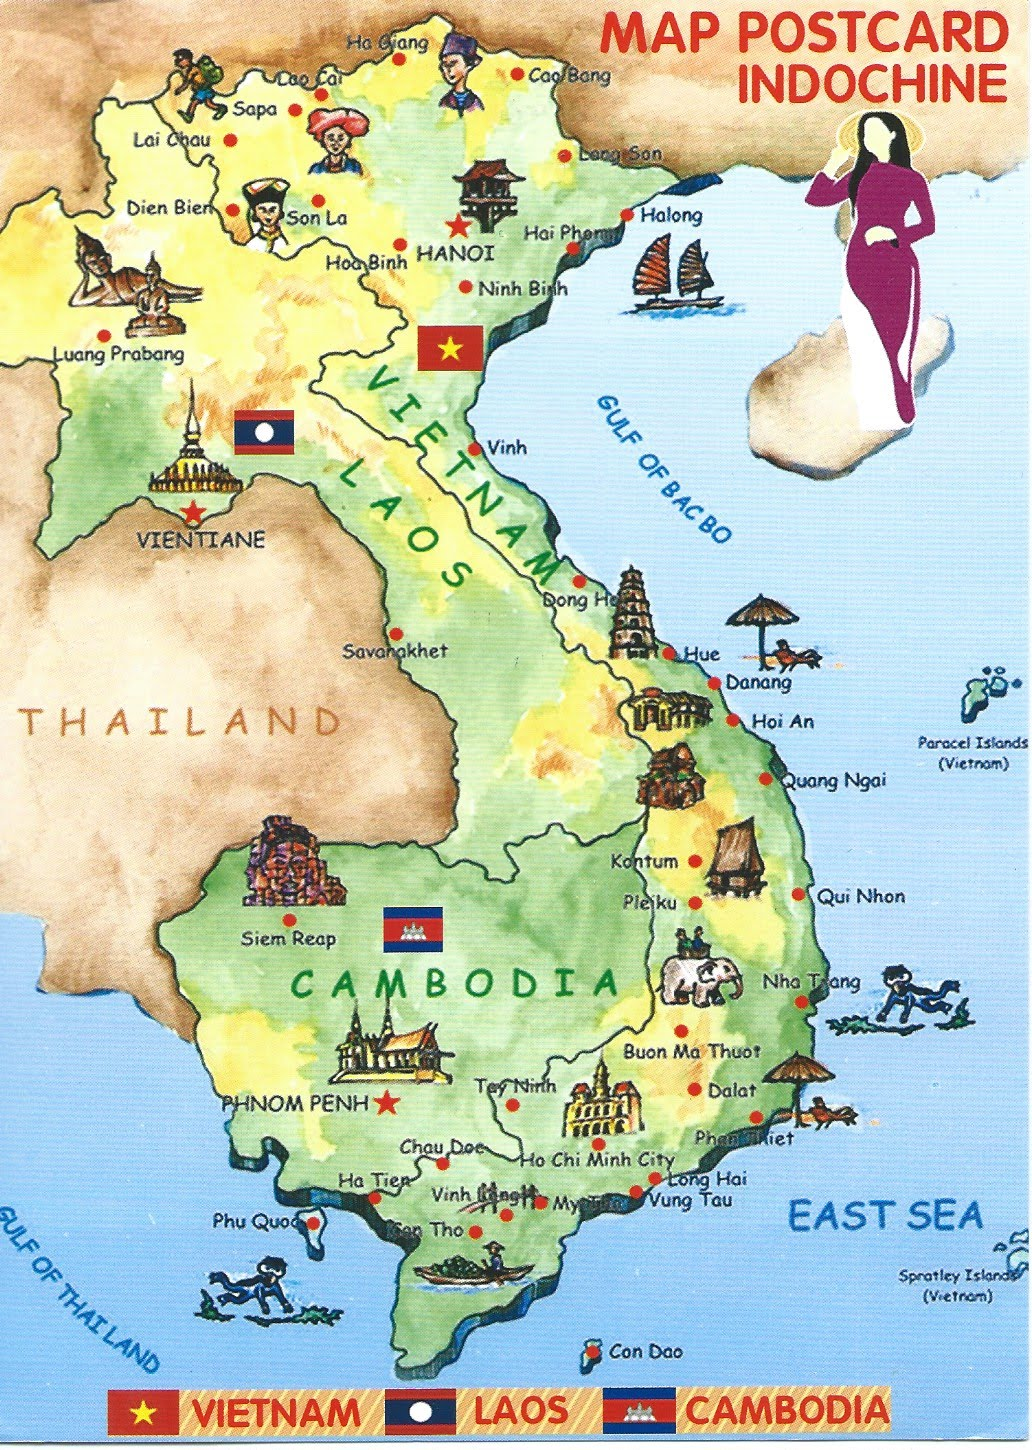Island: (896, 1222, 1032, 1320), (918, 658, 1029, 778)
